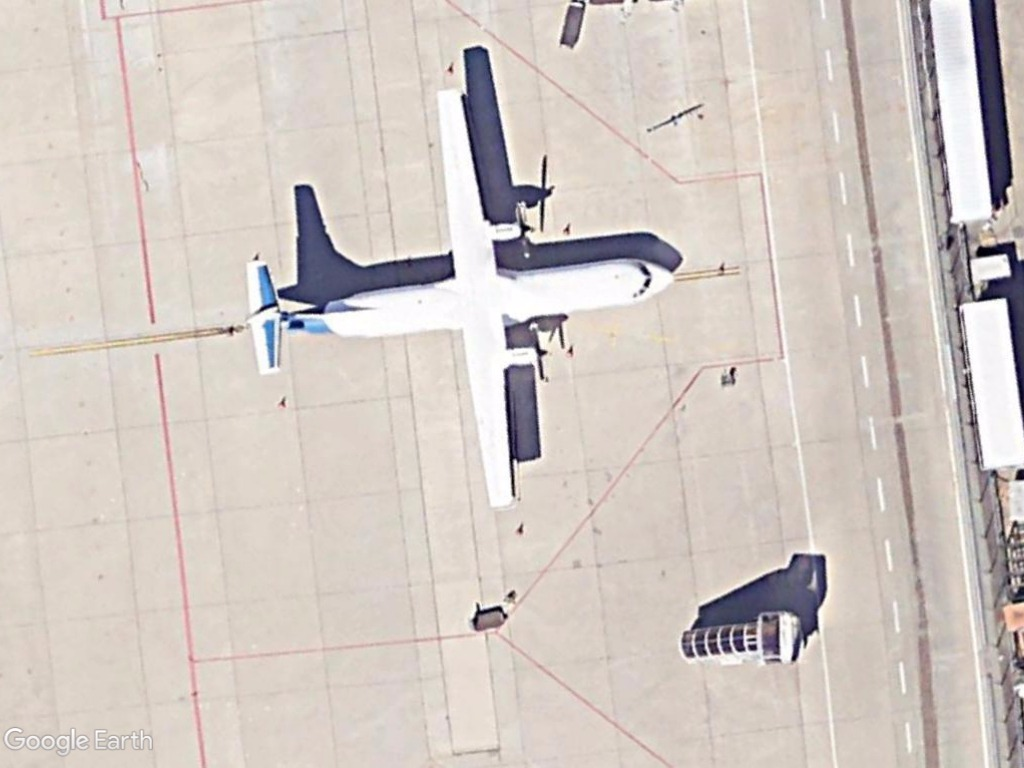propeller: (229, 83, 683, 511)
